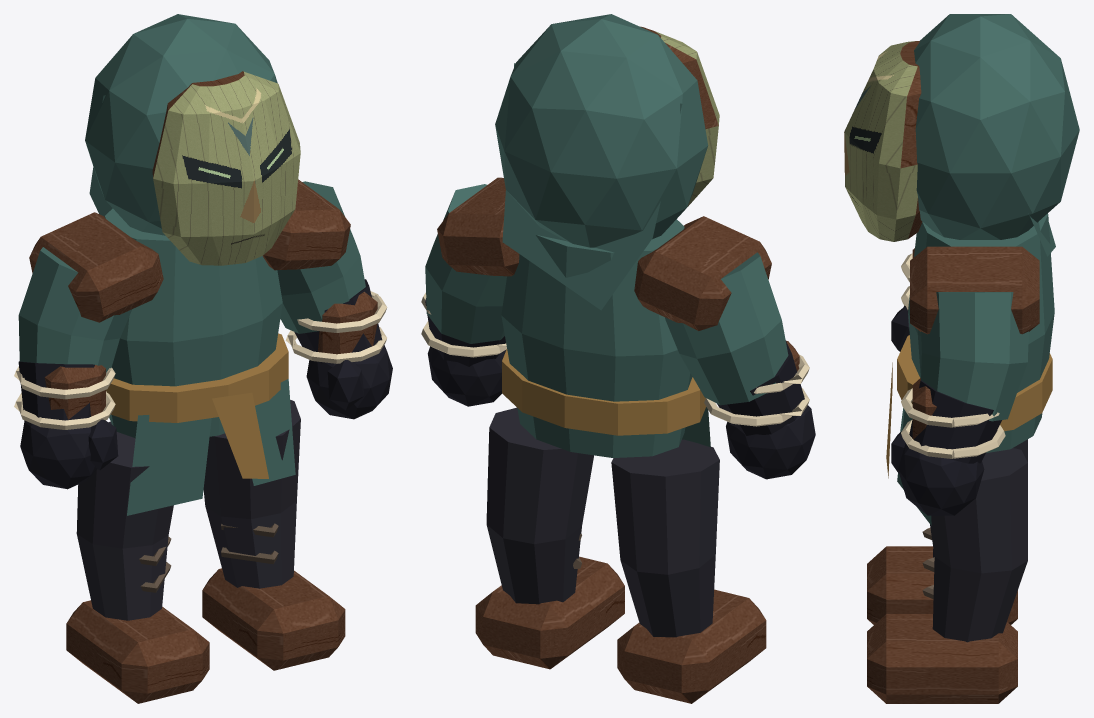
The model's file is guardian_scout.glb.
The picture shows the model from 3 angles, left to right: view 1: azimuth 30°, elevation 25°; view 2: azimuth 150°, elevation 25°; view 3: azimuth 270°, elevation 25°; orthographic projection. The views are drawn at different scales.
Visible parts, largest first — view 1: CarvedMask, Tunic, FabricHood, Trousers, Trousers.001, Foot, Foot.001, LacqueredShoulder, Sleeve, TunicTail, WovenBelt, Sleeve.001 (+15 smaller); view 2: FabricHood, Tunic, Trousers, Trousers.001, Sleeve, Foot, Foot.001, LacqueredShoulder, WovenBelt, Sleeve.001, FoldedHeadcloth, LacqueredShoulder.001 (+8 smaller); view 3: FabricHood, Trousers.001, CarvedMask, Foot.001, Sleeve.001, LacqueredShoulder.001, Tunic, Foot, Fist.001, Forearm.001, WovenBelt, Binding.003 (+3 smaller).
Part boxes in pixels (<box>): CarvedMask: <box>152,71,300,265</box>; Tunic: <box>104,208,282,438</box>; FabricHood: <box>85,14,277,235</box>; Trousers: <box>76,421,173,620</box>; Trousers.001: <box>203,400,300,588</box>; Foot: <box>66,600,209,703</box>; Foot.001: <box>202,568,345,670</box>; LacqueredShoulder: <box>29,212,163,322</box>; Sleeve: <box>18,247,131,372</box>; TunicTail: <box>127,415,211,515</box>; WovenBelt: <box>106,333,288,422</box>; Sleeve.001: <box>277,181,365,333</box>; FabricHood: <box>495,14,708,247</box>; Tunic: <box>501,219,692,457</box>; Trousers: <box>611,439,719,637</box>; Trousers.001: <box>486,407,593,604</box>; Sleeve: <box>665,252,788,405</box>; Foot: <box>617,589,766,703</box>; Foot.001: <box>475,556,624,669</box>; LacqueredShoulder: <box>634,216,771,330</box>; WovenBelt: <box>502,349,706,435</box>; Sleeve.001: <box>425,184,506,343</box>; FoldedHeadcloth: <box>502,63,682,310</box>; LacqueredShoulder.001: <box>437,177,519,276</box>; FabricHood: <box>914,14,1079,239</box>; Trousers.001: <box>930,448,1027,642</box>; CarvedMask: <box>844,41,922,241</box>; Foot.001: <box>867,614,1017,703</box>; Sleeve.001: <box>921,292,1028,421</box>; LacqueredShoulder.001: <box>910,246,1039,334</box>; Tunic: <box>908,213,1054,452</box>; Foot: <box>867,546,1017,624</box>; Fist.001: <box>898,443,984,515</box>; Forearm.001: <box>909,380,1001,463</box>; WovenBelt: <box>897,335,1052,431</box>; Binding.003: <box>901,420,1005,458</box>.
Bounding box in the file's own units: 0.9797 × 1.64 × 0.5456.
Materials: 8 (2 with a texture image).
